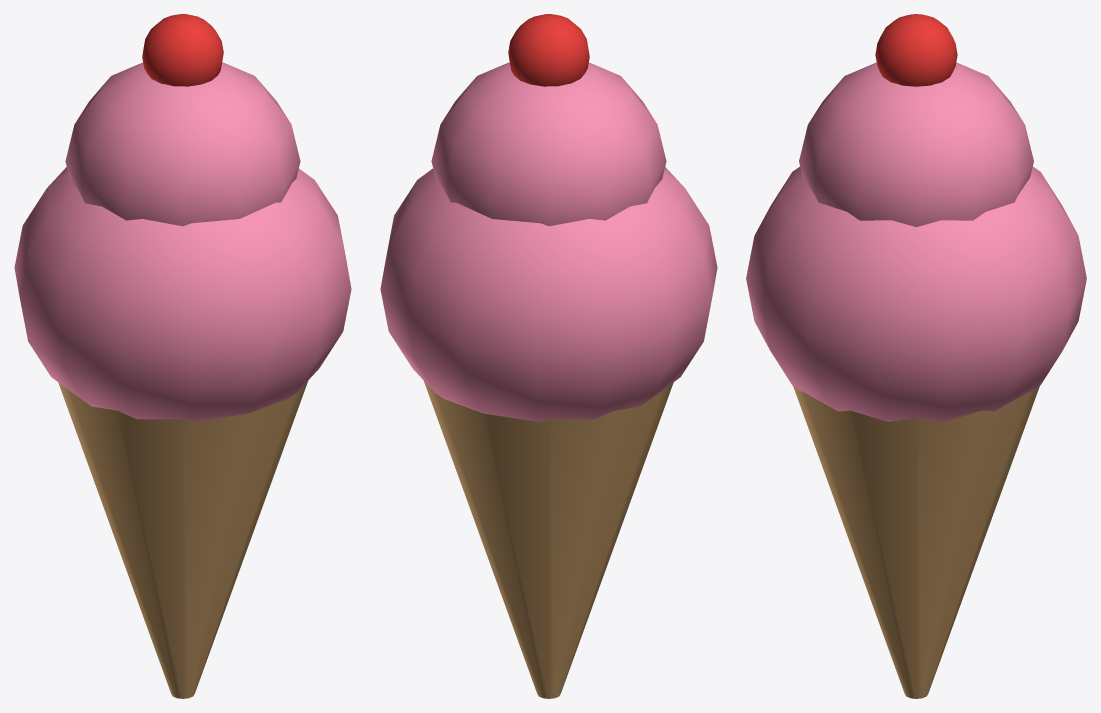
Rendered from roadevents_treat.glb.
3 views of the same model, side by side, from view 1: azimuth 30°, elevation 25°; view 2: azimuth 150°, elevation 25°; view 3: azimuth 270°, elevation 25° (orthographic).
Visible parts, largest first — view 1: Treat; view 2: Treat; view 3: Treat.
Boxes of the visible parts, x1,y1,x2,y2 form: Treat: (14,14,351,698); Treat: (380,14,717,698); Treat: (746,14,1086,698).
Bounding box in the file's own units: 0.3393 × 0.762 × 0.348.
